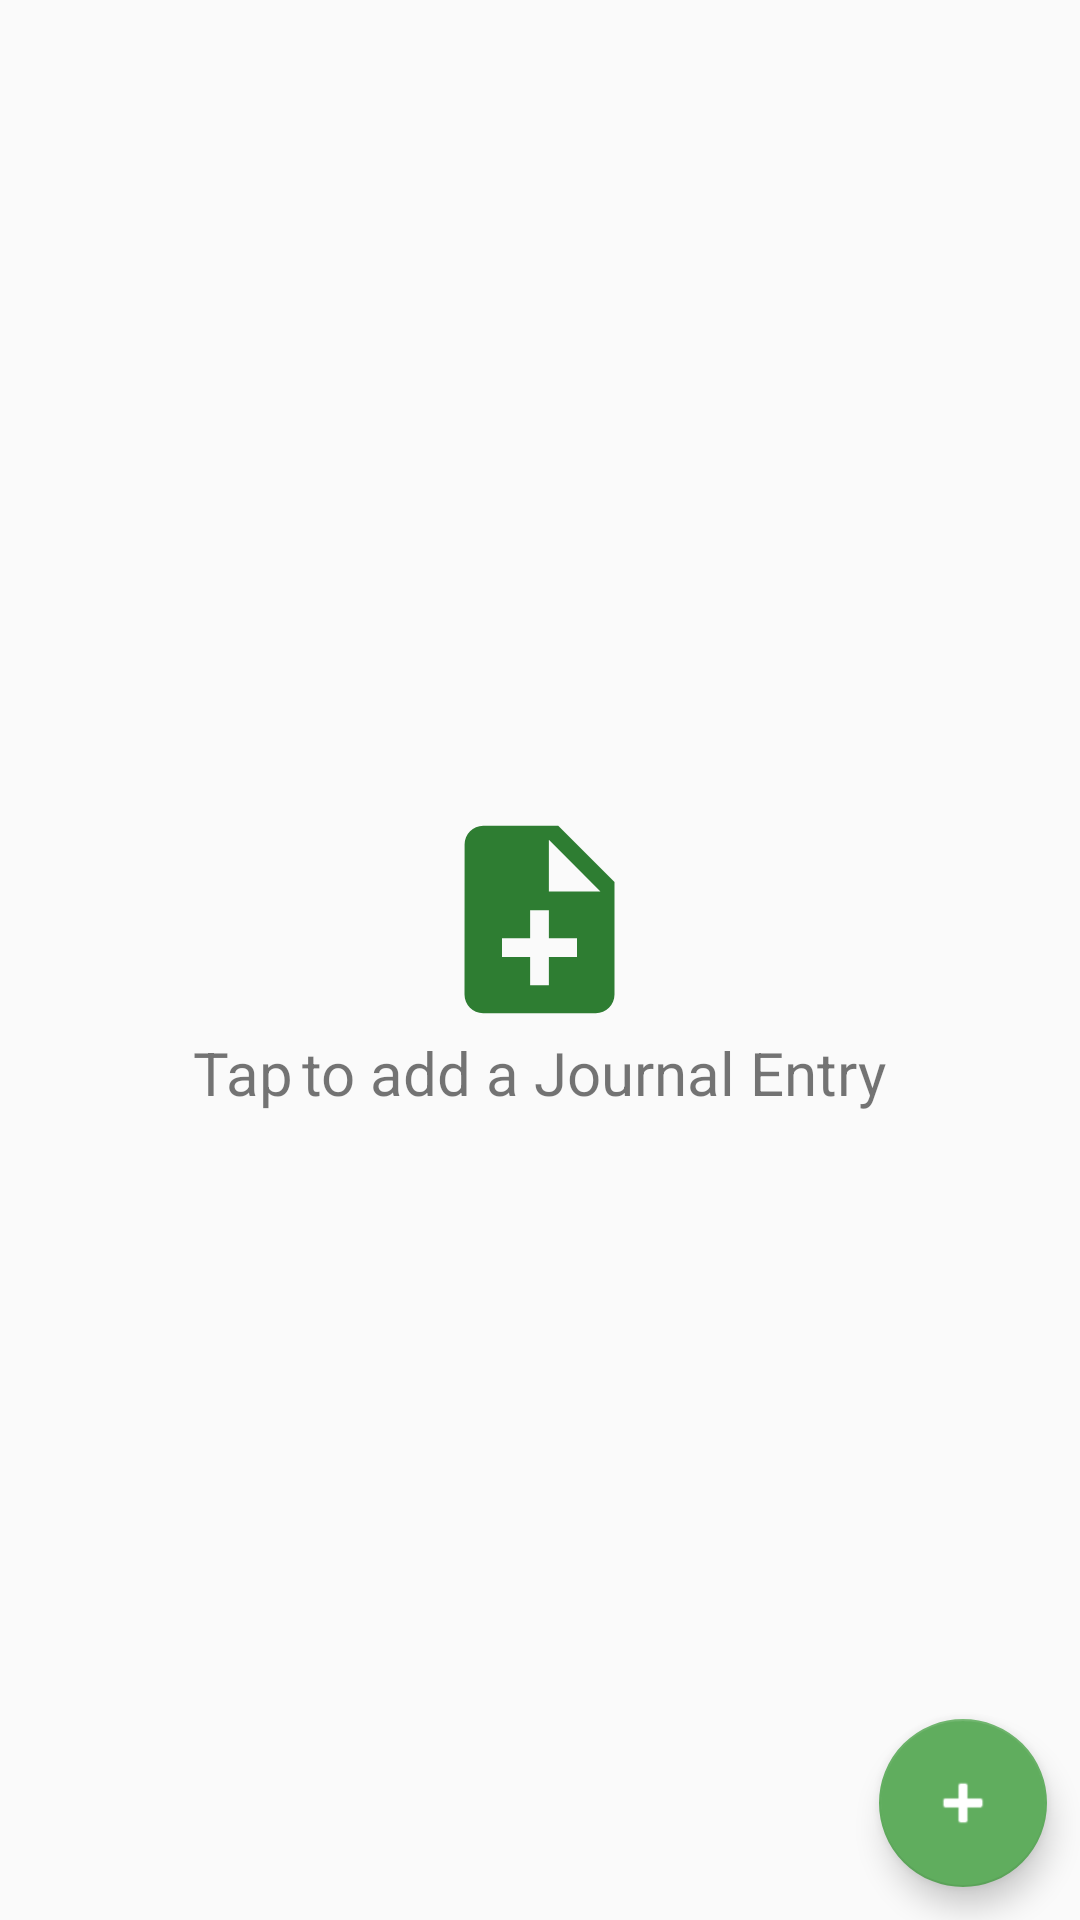

Icon click points for this 1080×1920 phone screenshot, format [x,y]:
add: [963,1803]
